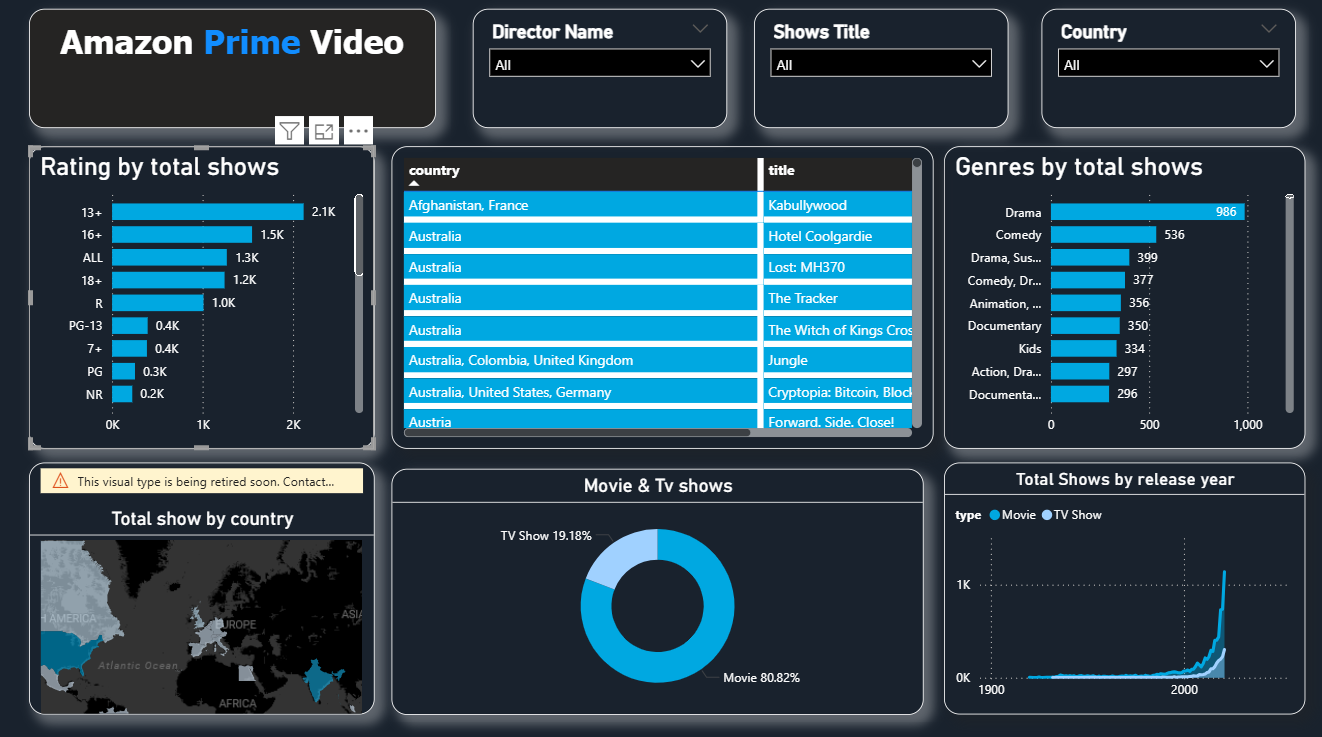

The page's visual inventory and layout, read from the dashboard file:
{"tool":"powerbi","page":{"name":"Page 1","canvas":[1280,720],"ordinal":0},"visuals":[{"type":"barChart","title":"Rating by total shows","fields":{"Y":["CountNonNull(amazon_prime_titles.show_id)"],"Category":["amazon_prime_titles.rating"]},"box":[28.8,145.5,333.4,292.3],"z":0},{"type":"barChart","title":"Genres by total shows","fields":{"Y":["CountNonNull(amazon_prime_titles.show_id)"],"Category":["amazon_prime_titles.listed_in"]},"box":[912.5,145.5,348.5,292.3],"z":1},{"type":"tableEx","fields":{"Values":["amazon_prime_titles.country","amazon_prime_titles.title"]},"box":[378.7,145.5,522.8,292.3],"z":2},{"type":"filledMap","title":"Total show by country","fields":{"Category":["amazon_prime_titles.country"]},"box":[28.8,451.5,333.4,242.9],"z":3},{"type":"donutChart","title":"Movie & Tv shows","fields":{"Y":["Count(amazon_prime_titles.show_id)"],"Category":["amazon_prime_titles.type"]},"box":[378.7,456.9,513.2,237.4],"z":4},{"type":"areaChart","title":"Total Shows by release year","fields":{"Category":["amazon_prime_titles.release_year"],"Y":["Count(amazon_prime_titles.show_id)"],"Series":["amazon_prime_titles.type"]},"box":[912.5,451.5,348.5,242.9],"z":5},{"type":"slicer","fields":{"Values":["amazon_prime_titles.country"]},"box":[1005.8,13.7,245.6,115.3],"z":6},{"type":"textbox","box":[29,13.3,333,115.8],"z":8},{"type":"slicer","fields":{"Values":["amazon_prime_titles.title"]},"box":[700.9,13.3,246.1,115.8],"z":9},{"type":"slicer","fields":{"Values":["amazon_prime_titles.type"]},"box":[411.4,13.3,244.9,115.8],"z":10}]}

Visuals, with their boxes in screenshot pixels (x1, y1, x2, y2), scaled from the page's 1280x720 canvas onto the 1322x737 screenshot:
"Rating by total shows" barChart: <region>30, 149, 374, 448</region>
"Genres by total shows" barChart: <region>942, 149, 1302, 448</region>
tableEx - amazon_prime_titles.country x amazon_prime_titles.title: <region>391, 149, 931, 448</region>
"Total show by country" filledMap: <region>30, 462, 374, 711</region>
"Movie & Tv shows" donutChart: <region>391, 468, 921, 711</region>
"Total Shows by release year" areaChart: <region>942, 462, 1302, 711</region>
slicer - amazon_prime_titles.country: <region>1039, 14, 1292, 132</region>
textbox: <region>30, 14, 374, 132</region>
slicer - amazon_prime_titles.title: <region>724, 14, 978, 132</region>
slicer - amazon_prime_titles.type: <region>425, 14, 678, 132</region>
